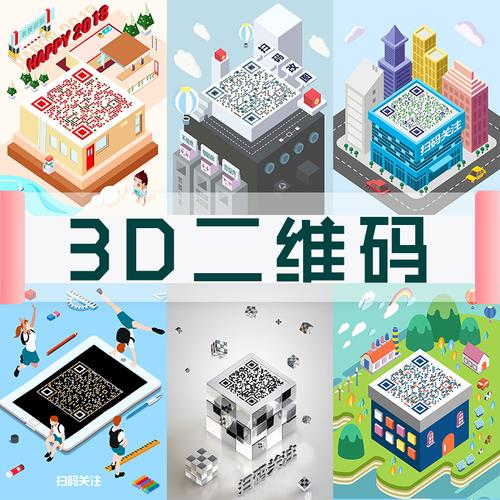QRCode: (30, 64, 135, 140), (202, 58, 297, 127), (377, 351, 465, 418), (39, 360, 129, 424), (377, 84, 454, 140), (218, 358, 287, 410)
